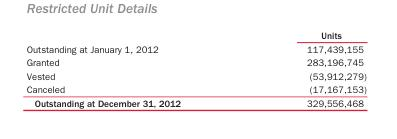table: (25, 29, 365, 108)
table column: (25, 29, 243, 108), (243, 29, 365, 108)
table column header: (25, 29, 365, 41)
table row: (25, 41, 365, 55), (25, 68, 365, 82), (25, 55, 365, 68), (25, 82, 365, 95), (25, 95, 365, 108), (25, 29, 365, 41)
